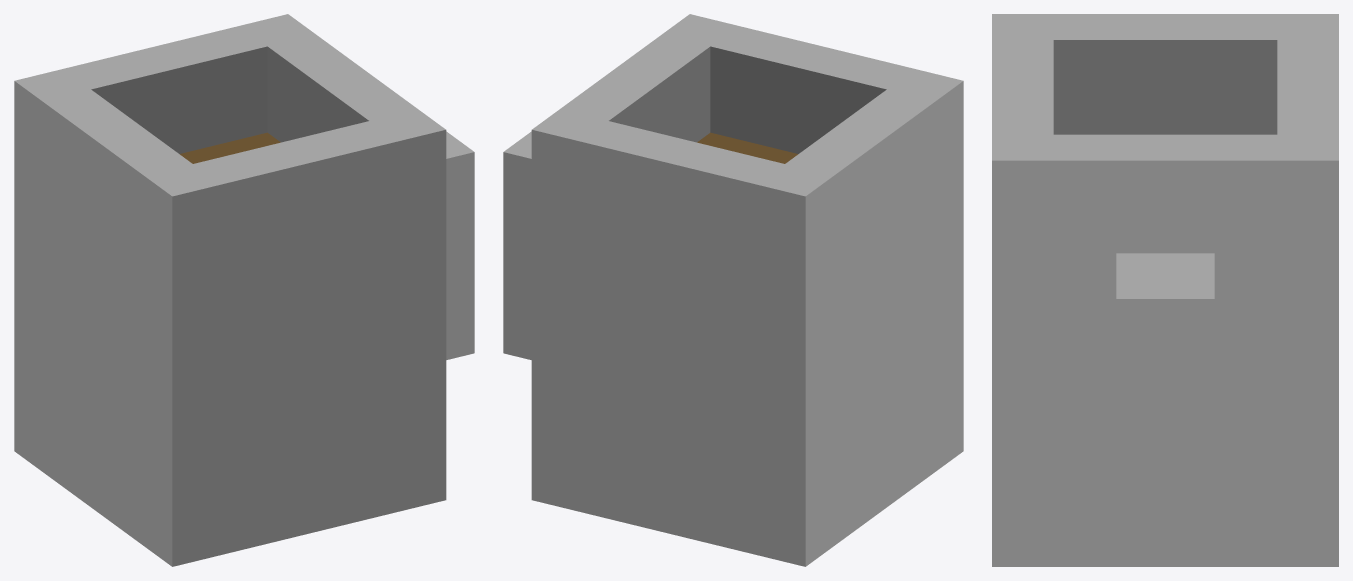
Rendered from CoffeeMug.glb.
3 renders of one model, left to right at view 1: azimuth 30°, elevation 25°; view 2: azimuth 150°, elevation 25°; view 3: azimuth 270°, elevation 25°, orthographic. The views are drawn at different scales.
Parts seen in each view (by area): view 1: SI__Prop_CoffeeCup_01; view 2: SI__Prop_CoffeeCup_01; view 3: SI__Prop_CoffeeCup_01.
Part boxes in pixels (x1,y1,x2,y2): SI__Prop_CoffeeCup_01: [14, 14, 474, 566]; SI__Prop_CoffeeCup_01: [503, 14, 963, 566]; SI__Prop_CoffeeCup_01: [992, 14, 1338, 566].
Size of the model in its own units: 0.00273 by 0.00269 by 0.00208.
1 material, 1 textured.
